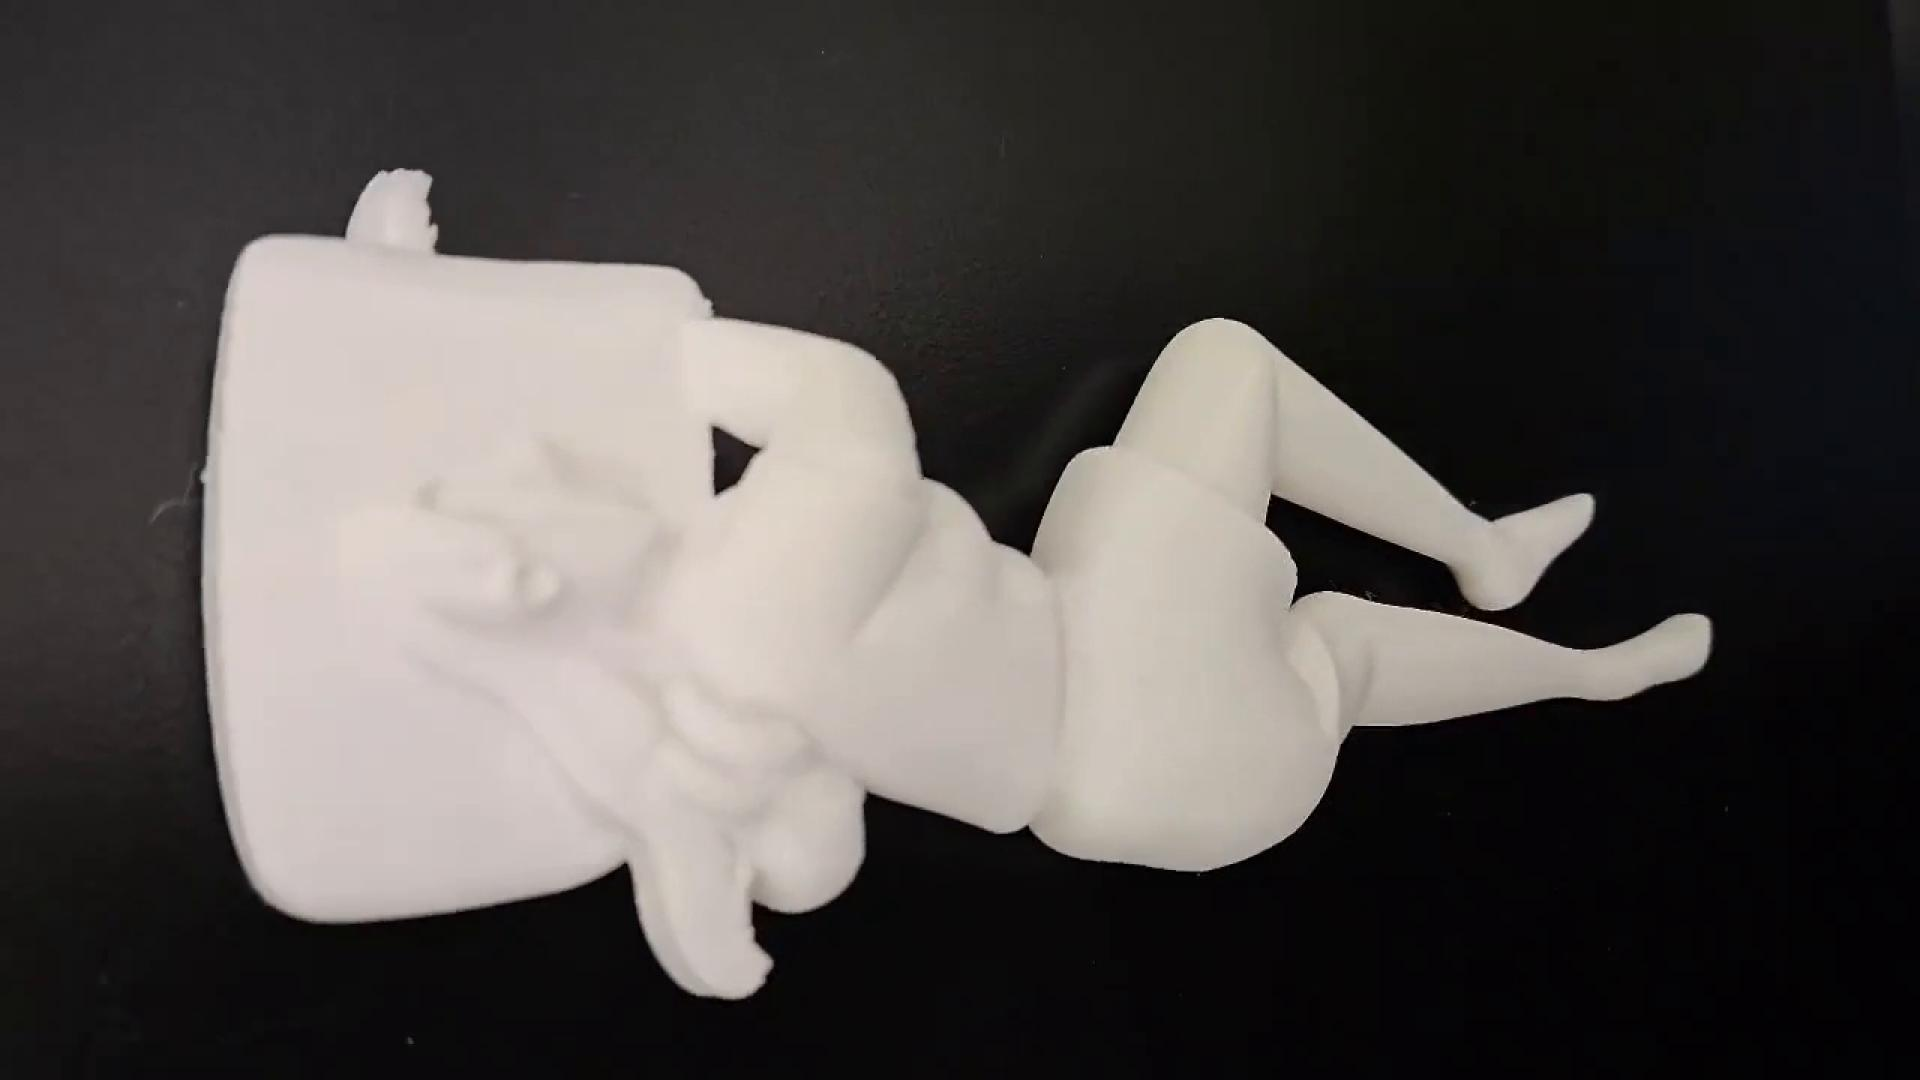Good-style: (135, 164, 1753, 1011)
